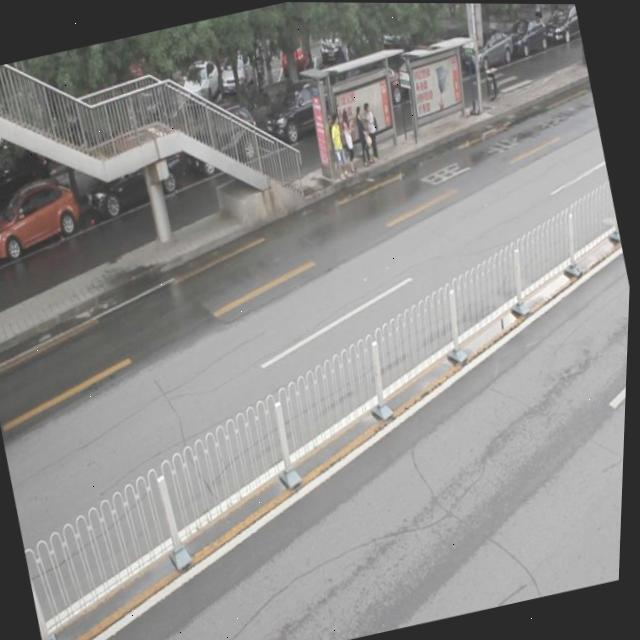car: (75, 119, 190, 218), (0, 176, 87, 263), (255, 68, 346, 144), (179, 102, 265, 177)
